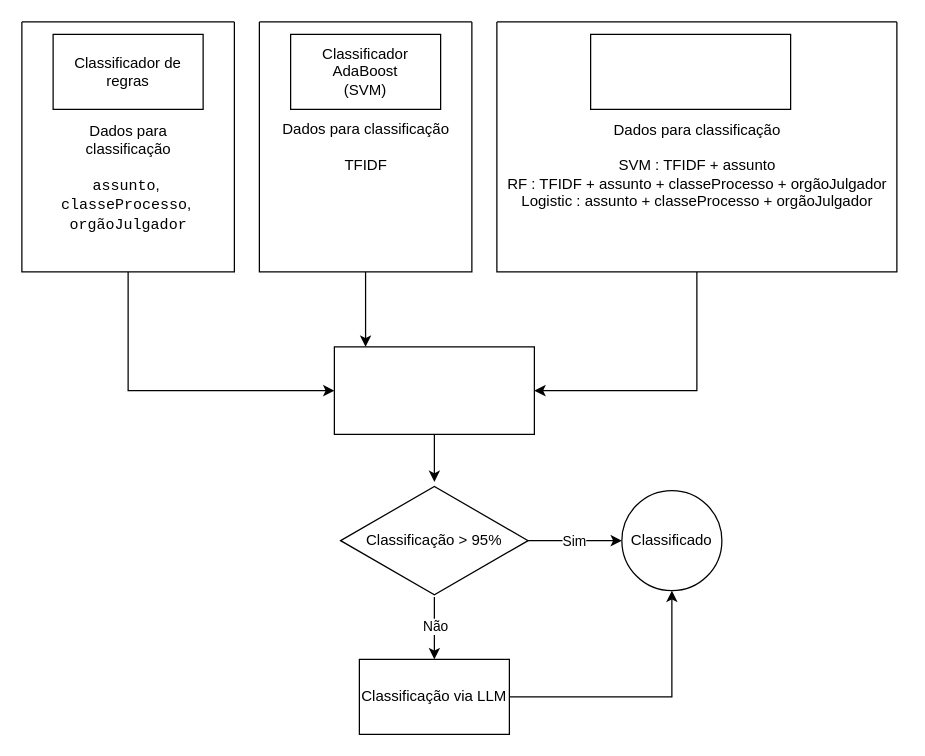
Image size: 925x756. Some labels were removed from this diagram. Each missing label, with the centre of its shape:
"Classificador Stacking (SVM + RF + Logistic)" belongs at pixel 690 71.
"Voting Classifier (Soft)" belongs at pixel 433 390.
